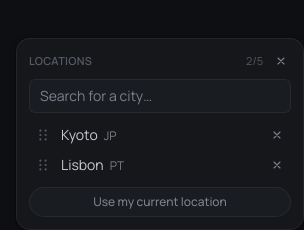
Test: WeatherLocationsPopover › geolocation with no reverse results shows the couldn't-resolve note
(page scrolled)
Click the button "Use my current location".
click(160, 202)  # box 29,187 -> 291,217
(page scrolled)
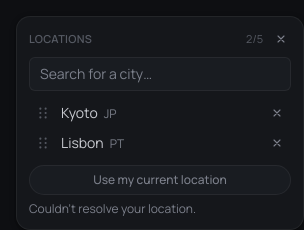
expect the text "Couldn't resolve your location." is shown: met, box 29,200 -> 196,217
